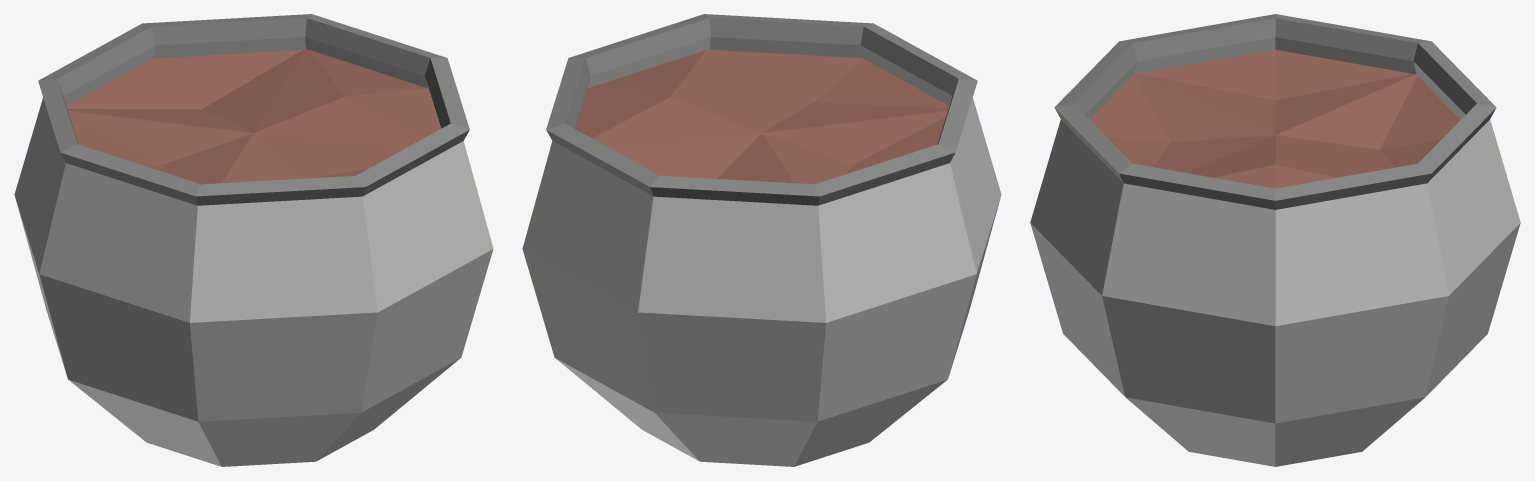
The model's file is Cauldron_1_White.fbx.
3 views of the same model, side by side, from view 1: azimuth 30°, elevation 25°; view 2: azimuth 150°, elevation 25°; view 3: azimuth 270°, elevation 25° (orthographic).
Parts seen in each view (by area): view 1: Cauldron_1_White_Part_1, Cauldron_1_White_Part_3, Cauldron_1_White_Part_2; view 2: Cauldron_1_White_Part_1, Cauldron_1_White_Part_3, Cauldron_1_White_Part_2; view 3: Cauldron_1_White_Part_1, Cauldron_1_White_Part_3, Cauldron_1_White_Part_2.
Part boxes in pixels (x1,y1,x2,y2): Cauldron_1_White_Part_1: [14, 37, 493, 466]; Cauldron_1_White_Part_3: [66, 49, 440, 184]; Cauldron_1_White_Part_2: [38, 14, 469, 205]; Cauldron_1_White_Part_1: [522, 37, 1001, 466]; Cauldron_1_White_Part_3: [575, 49, 949, 184]; Cauldron_1_White_Part_2: [546, 14, 977, 205]; Cauldron_1_White_Part_1: [1030, 37, 1520, 466]; Cauldron_1_White_Part_3: [1090, 49, 1460, 188]; Cauldron_1_White_Part_2: [1054, 14, 1496, 209].
Bounding box in the file's own units: 100 × 70.12 × 100.
